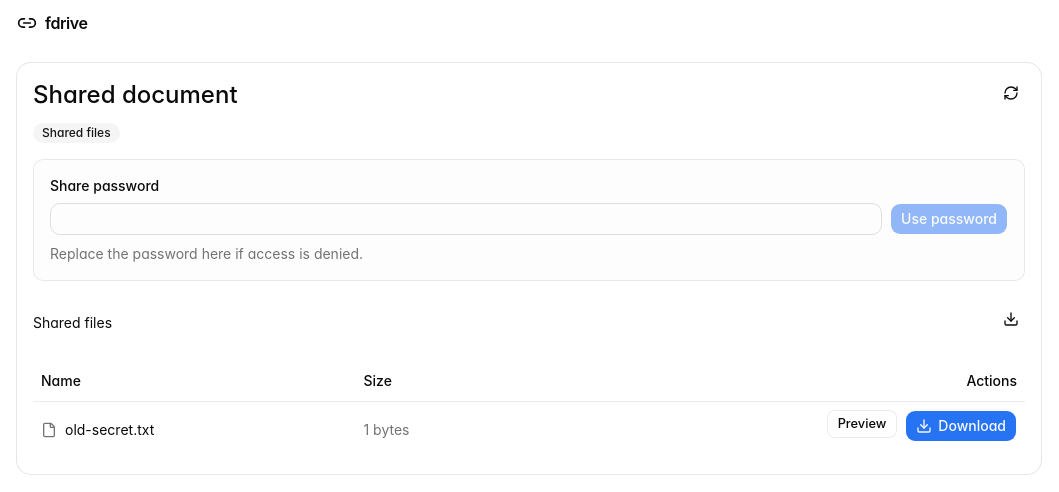
Scenario: clears old directory entries during credential replacement and ignores late old results
This screenshot has width=1059, height=492.
Expected: the text "old-secret.txt" is shown, 65,420 -> 154,440
In the password field labelled "Share password": x=466, y=219 50,203 -> 882,235, type "replacement"
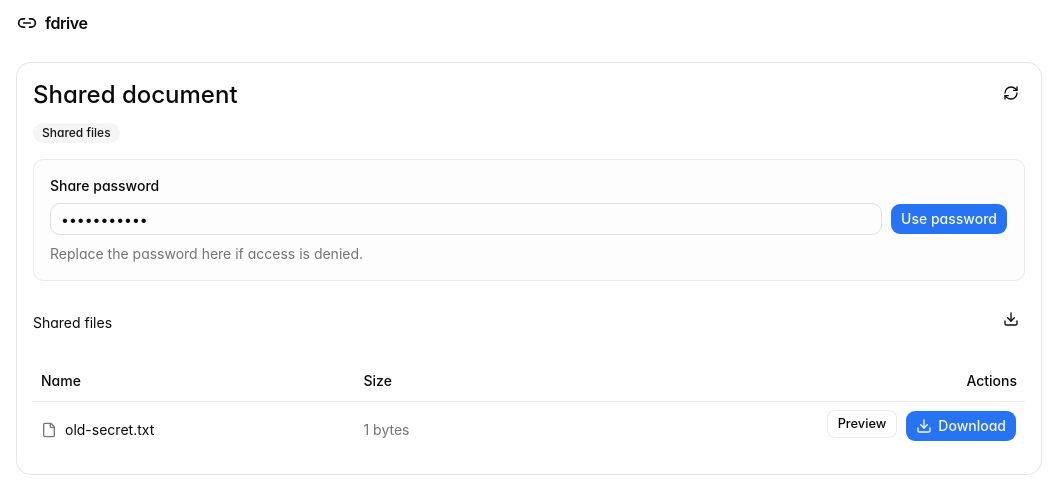
Click the button "Use password": x=949, y=219 890,203 -> 1008,235
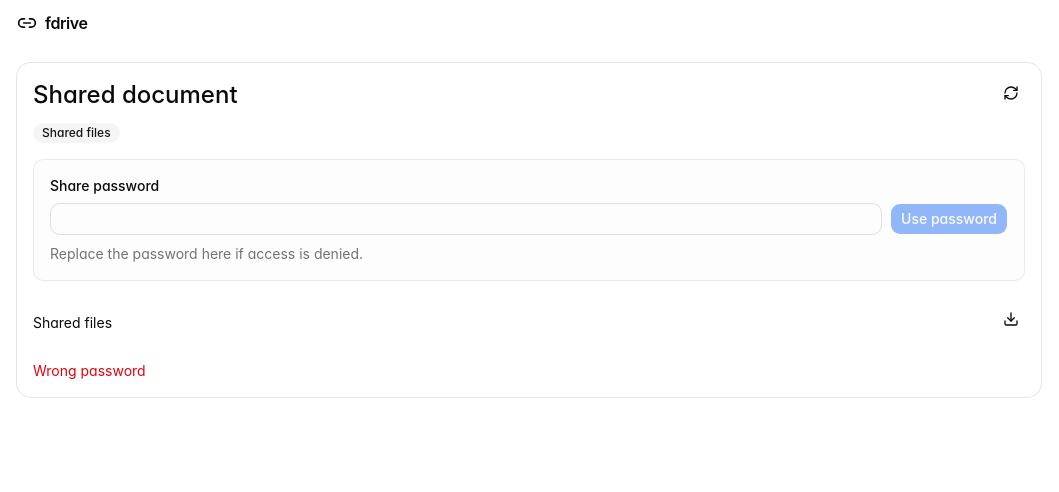
Expected: the text "Wrong password" is shown, 33,362 -> 146,379
Expected: the text "old-secret.txt" is gone
